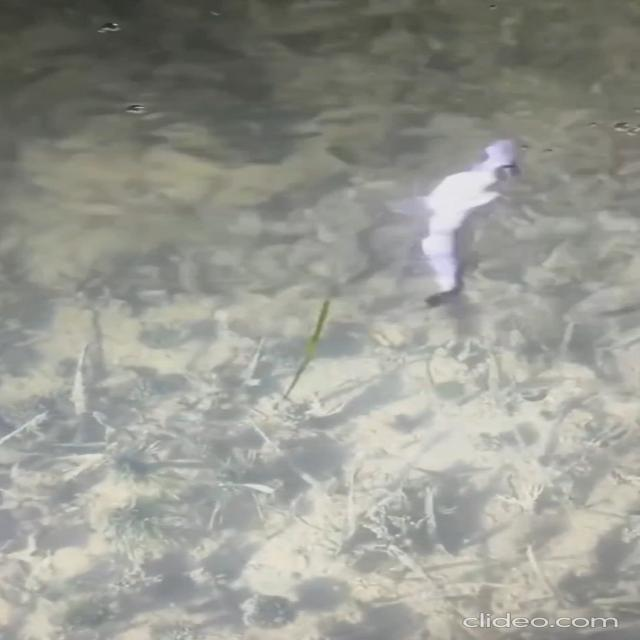fish: (422, 115, 534, 317)
